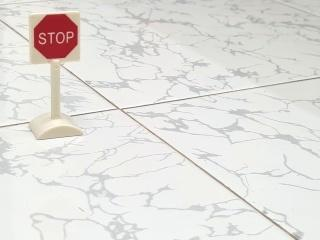stop: (25, 10, 86, 71)
